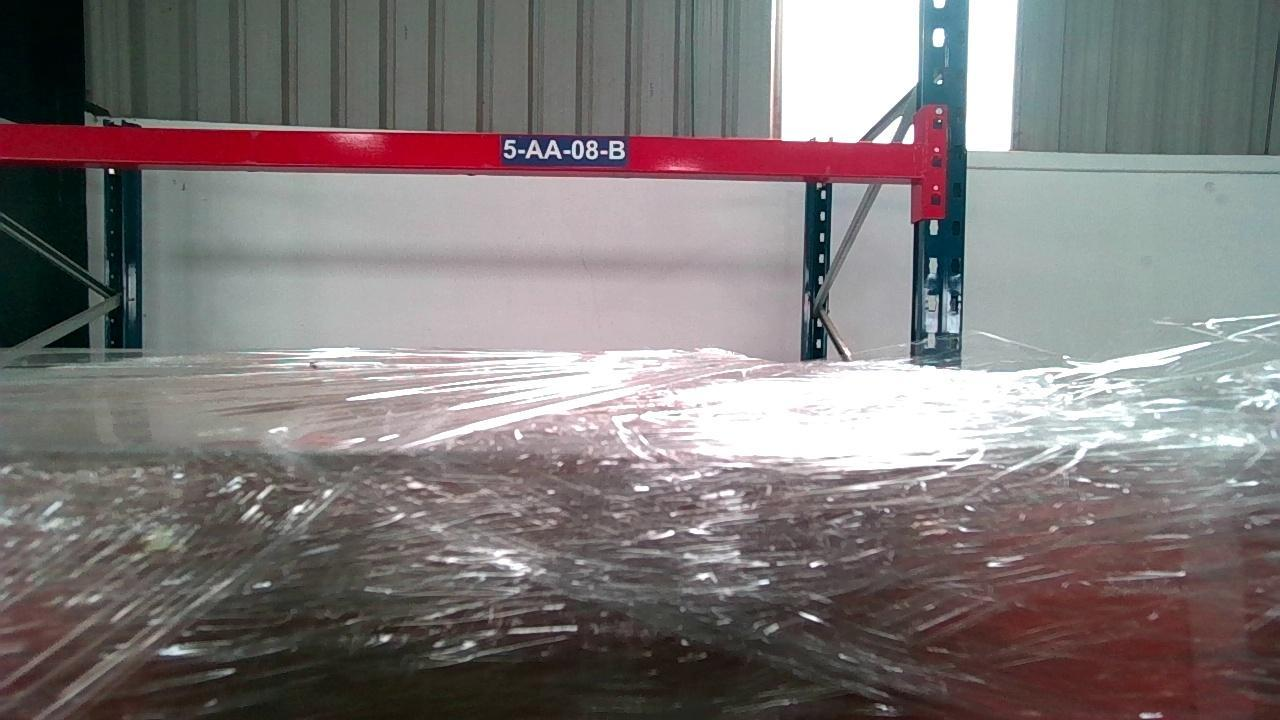h_rack: (0, 123, 927, 178)
